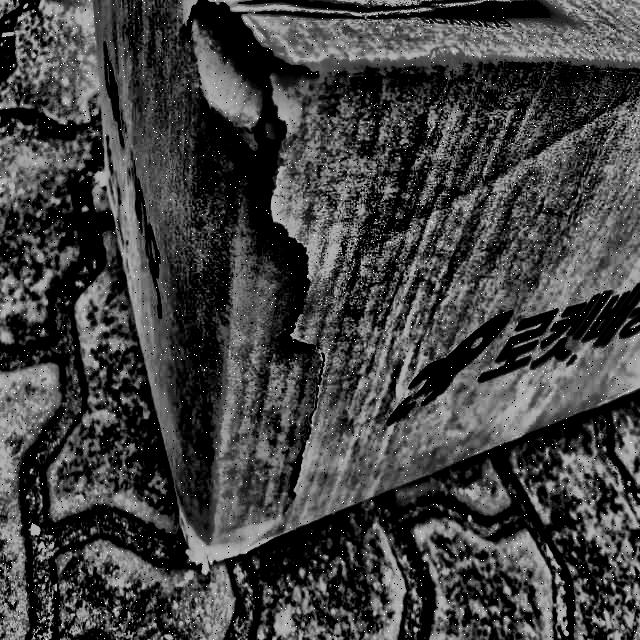box: (83, 0, 640, 572)
wet: (157, 0, 580, 468)
